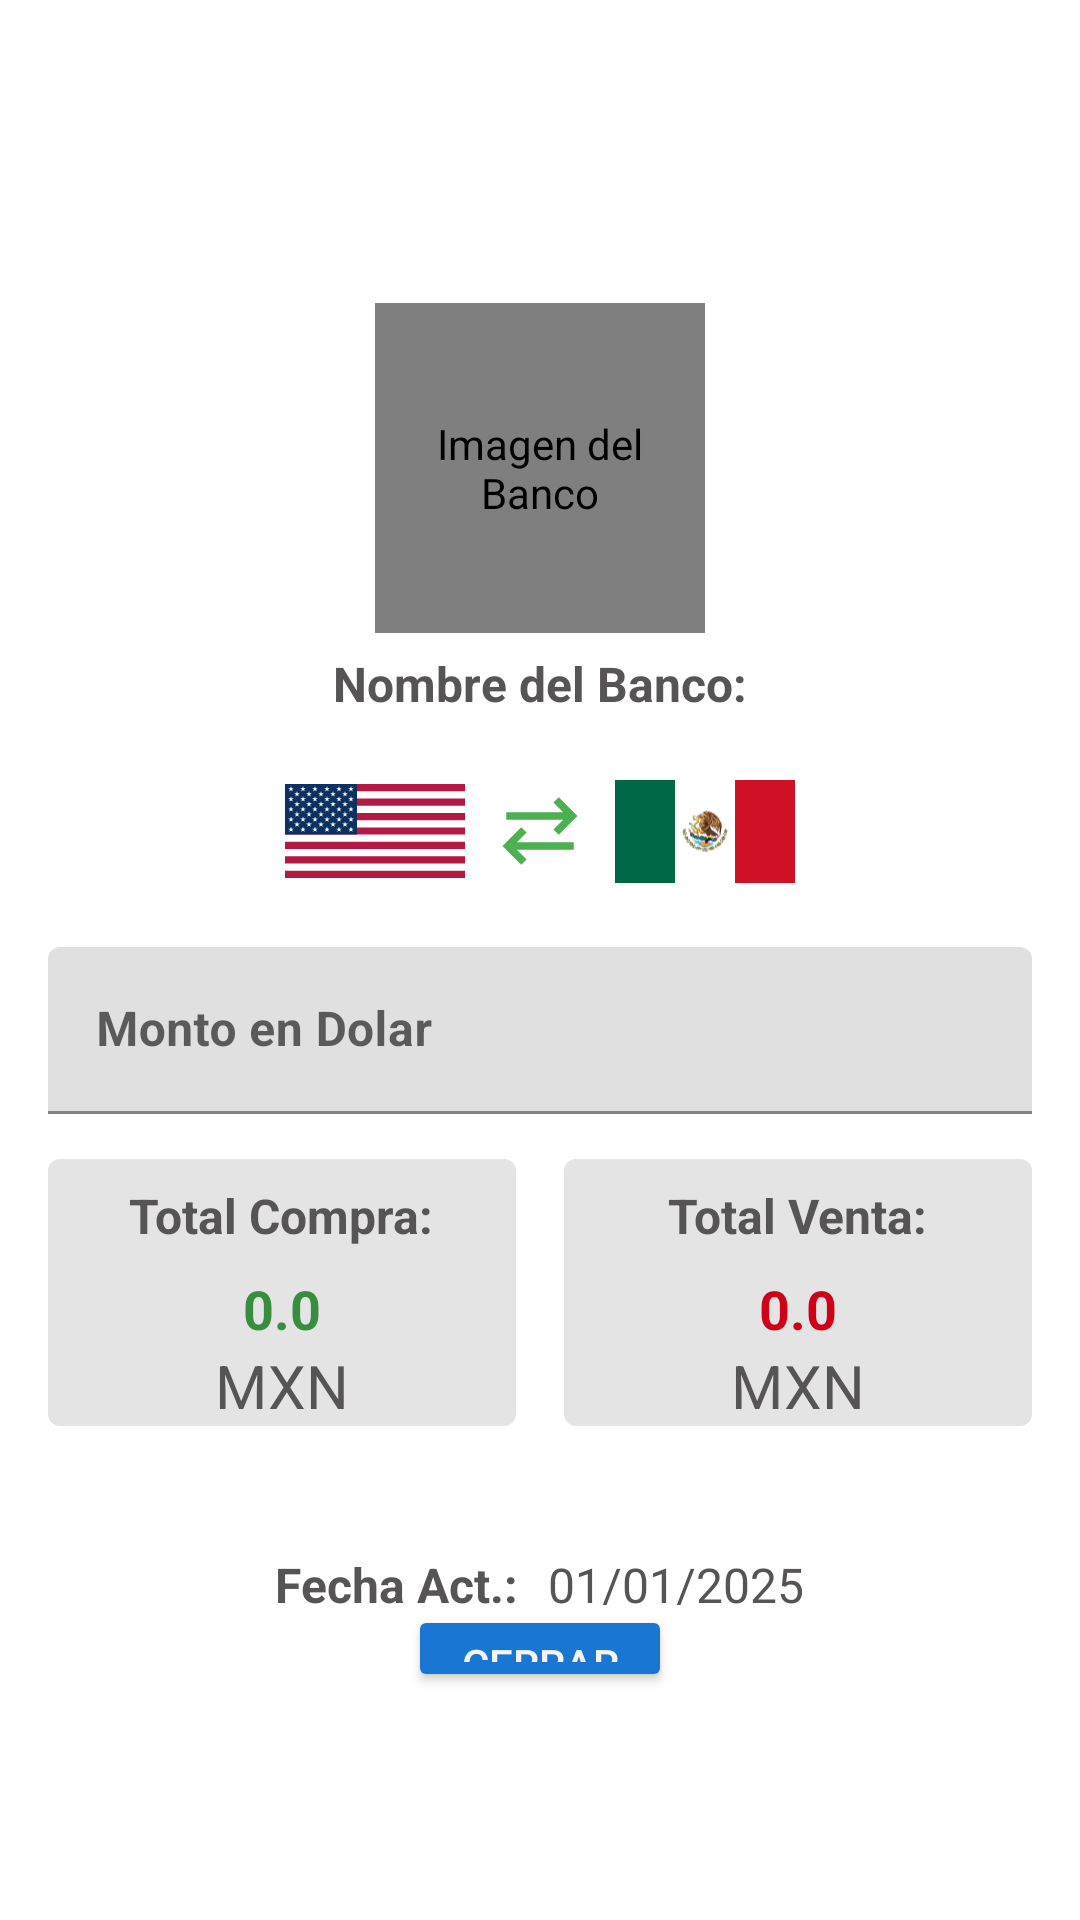

Where to tap for icons on this 1080w x 1920h app screen, as (x=x, y=y):
Bandera EEUU: (x=375, y=831)
Bandera Mexico: (x=705, y=831)
Cambio de Bandera: (x=540, y=831)
